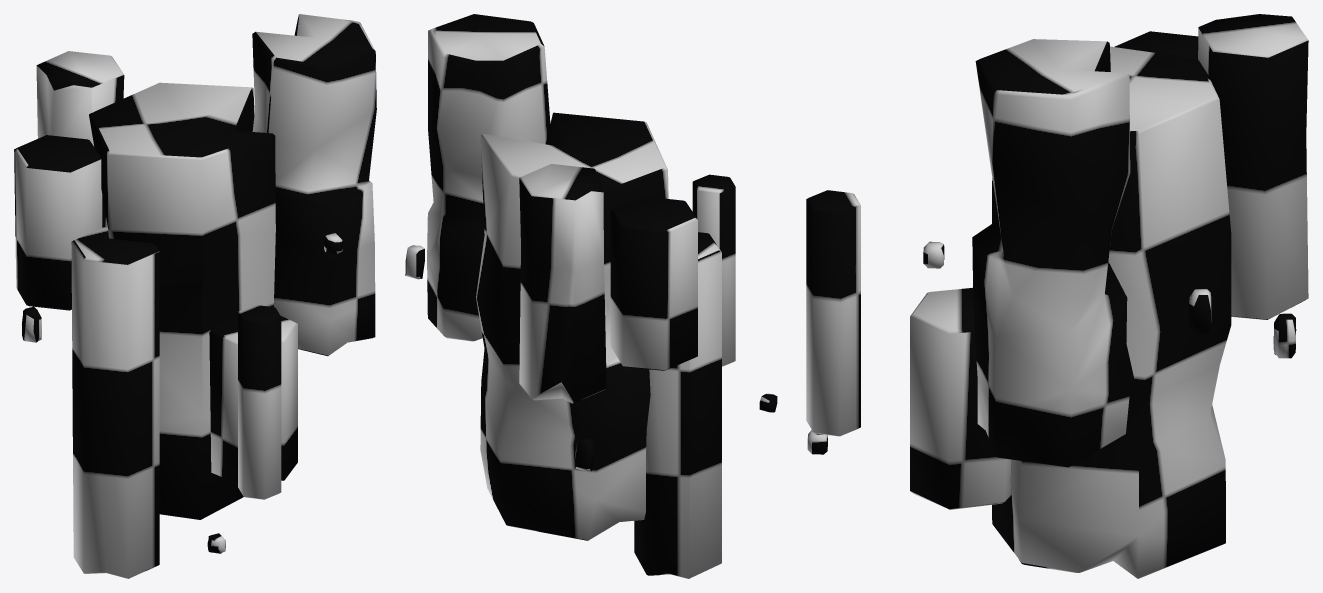
The model's file is streuner_asteroid01.obj.
3 renders of one model, left to right at view 1: azimuth 30°, elevation 25°; view 2: azimuth 150°, elevation 25°; view 3: azimuth 270°, elevation 25°, orthographic. The views are drawn at different scales.
Parts seen in each view (by area): view 1: lowpoly; view 2: lowpoly; view 3: lowpoly.
Part boxes in pixels (x1,y1,x2,y2): lowpoly: (14,14,376,578); lowpoly: (405,14,777,578); lowpoly: (806,14,1308,578).
Bounding box in the file's own units: 338 × 511 × 383.
1 material, 1 textured.
